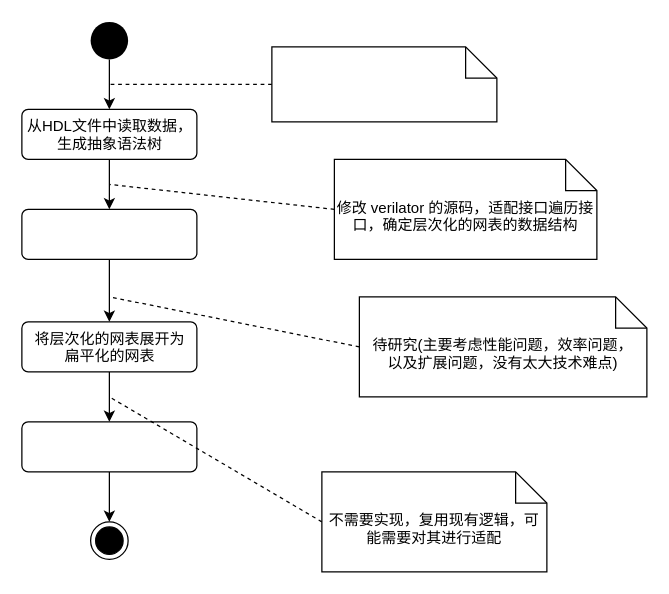
Some shapes in this 669 by 594 pixel diagram are drawn without their labels. Here are the shapes that lost their labels. From the top down, the box of each, then its label:
(271, 46, 497, 122): 使用开源解析库 verilator 实现
(21, 208, 197, 259): 遍历抽象语法树，生成 层次化的电路网表
(21, 421, 197, 472): 将扁平化的RTL级网表 映射到扁平化的门级网表
